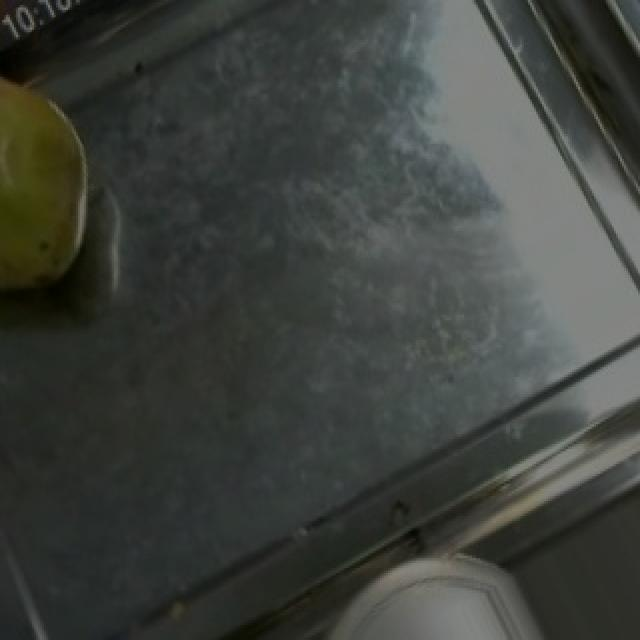fruit: (0, 57, 114, 305)
